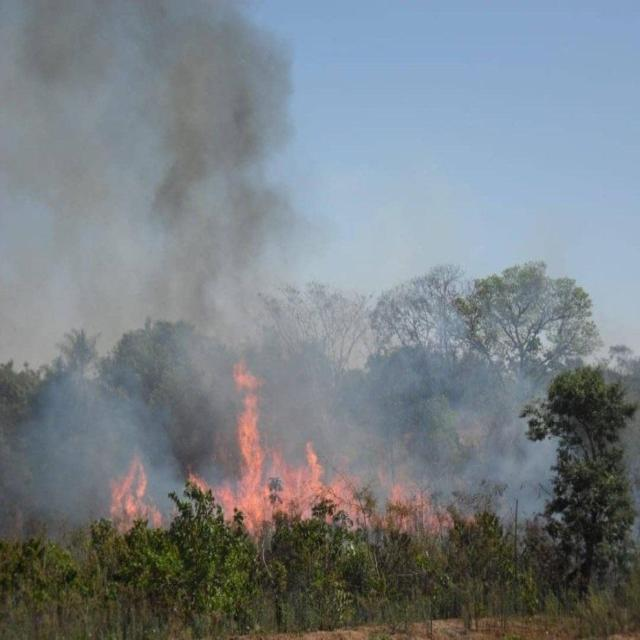Fire: (194, 381, 449, 542), (106, 461, 166, 532)
